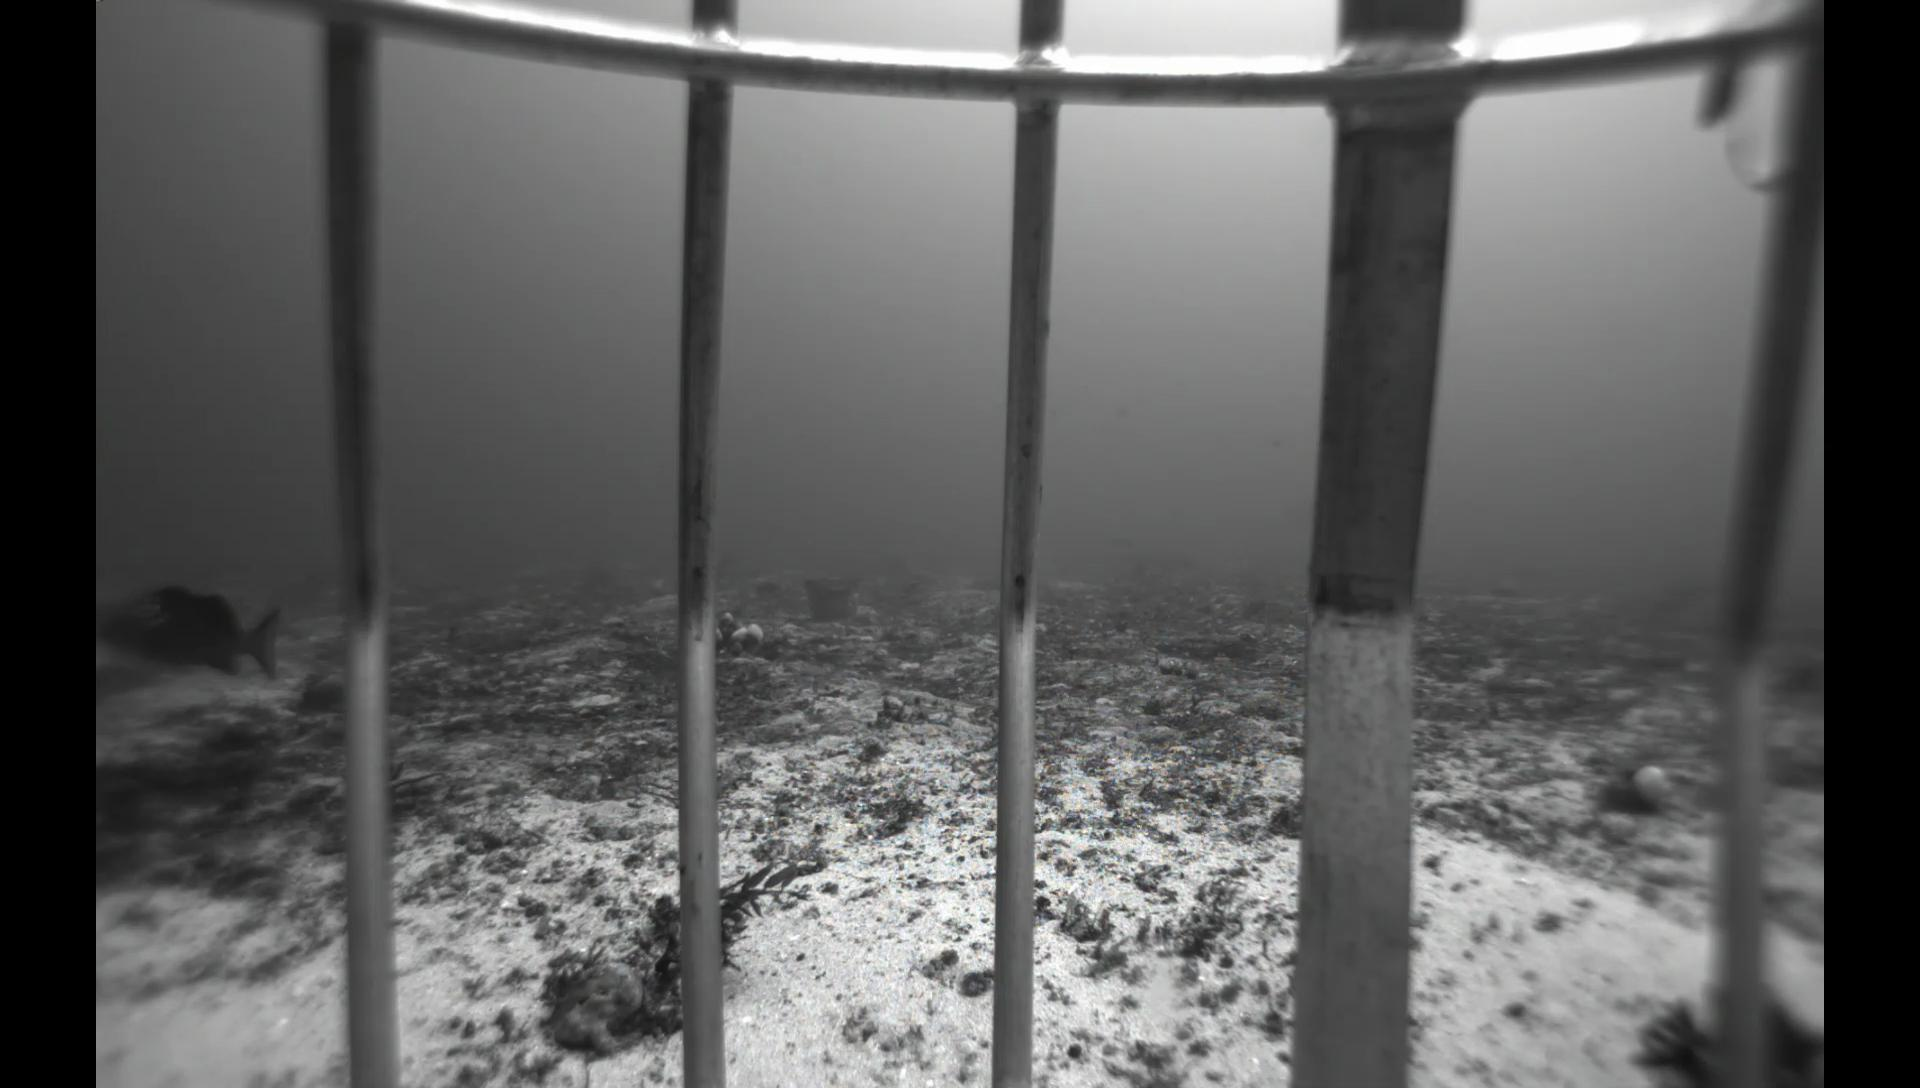CHAETODONOCELLATUS-170260307: (646, 574, 673, 593), (870, 574, 895, 591)
EPINEPHELUSMORIO-170021211: (94, 576, 287, 691)
PRISTIGENYSALTA-170050401: (293, 673, 348, 719)
